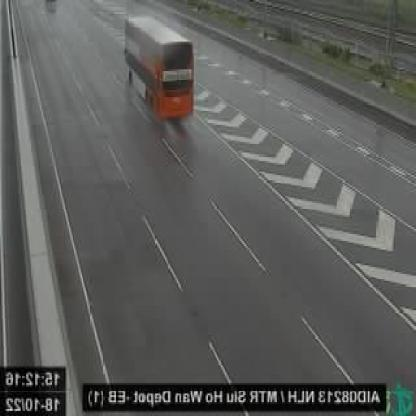Bus: (122, 16, 194, 122)
